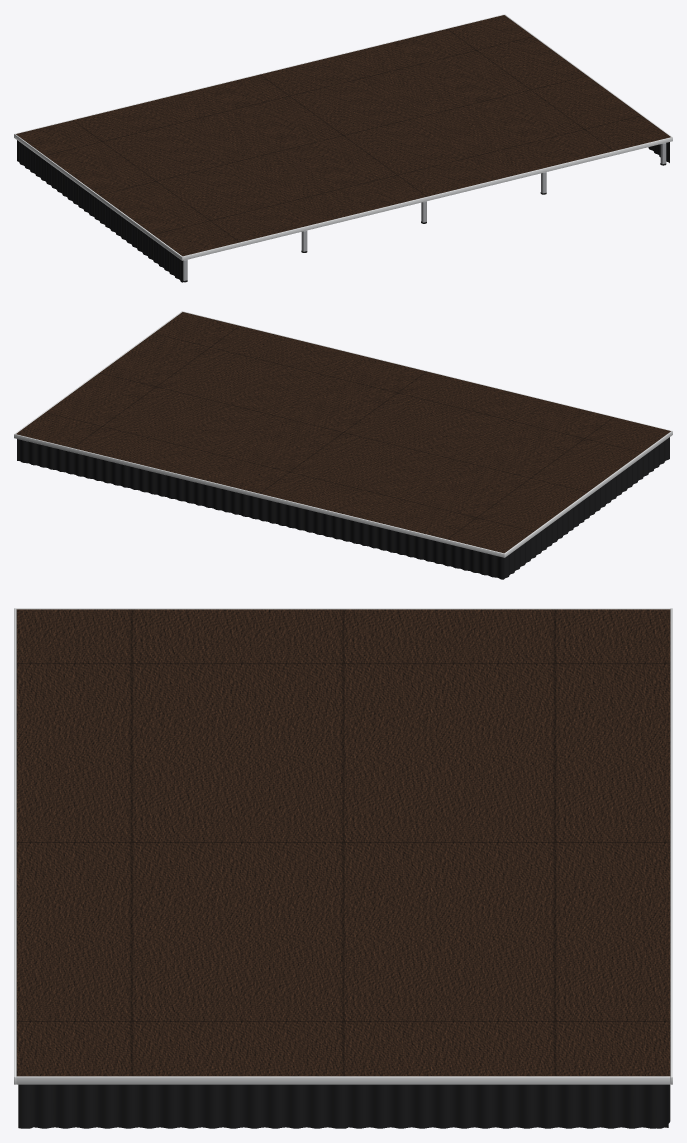
The model's file is stage_deck.glb.
3 renders of one model, top to bottom at view 1: azimuth 30°, elevation 25°; view 2: azimuth 150°, elevation 25°; view 3: azimuth 270°, elevation 25°, orthographic. The views are drawn at different scales.
Parts seen in each view (by area): view 1: StagePlywood, StageTrimAluminium, StageSkirt, StageFrameSteel; view 2: StagePlywood, StageSkirt, StageTrimAluminium; view 3: StagePlywood, StageSkirt, StageTrimAluminium.
Boxes of the visible parts, x1,y1,x2,y2 form: StagePlywood: [16, 15, 670, 256]; StageTrimAluminium: [14, 14, 672, 260]; StageSkirt: [17, 140, 669, 282]; StageFrameSteel: [183, 143, 666, 280]; StagePlywood: [16, 312, 670, 553]; StageSkirt: [17, 437, 669, 579]; StageTrimAluminium: [14, 311, 672, 557]; StagePlywood: [16, 609, 670, 1076]; StageSkirt: [18, 1084, 670, 1128]; StageTrimAluminium: [14, 608, 672, 1084].
Bounding box in the file's own units: 6.4 × 0.35 × 3.8.
5 materials, 1 textured.
